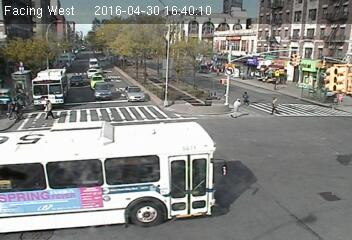neg: (316, 183, 341, 216), (131, 194, 153, 224), (77, 185, 94, 208), (317, 140, 334, 163), (334, 85, 351, 107), (200, 88, 215, 109), (176, 73, 191, 93), (174, 198, 188, 217), (284, 66, 297, 83), (132, 162, 145, 178), (162, 90, 174, 107), (136, 67, 148, 83), (191, 156, 203, 172), (293, 9, 305, 24), (50, 49, 61, 65), (116, 54, 127, 69), (255, 55, 265, 68)
pos: (226, 96, 244, 120), (268, 95, 284, 117), (40, 97, 56, 118), (3, 98, 18, 118), (240, 89, 253, 105)
